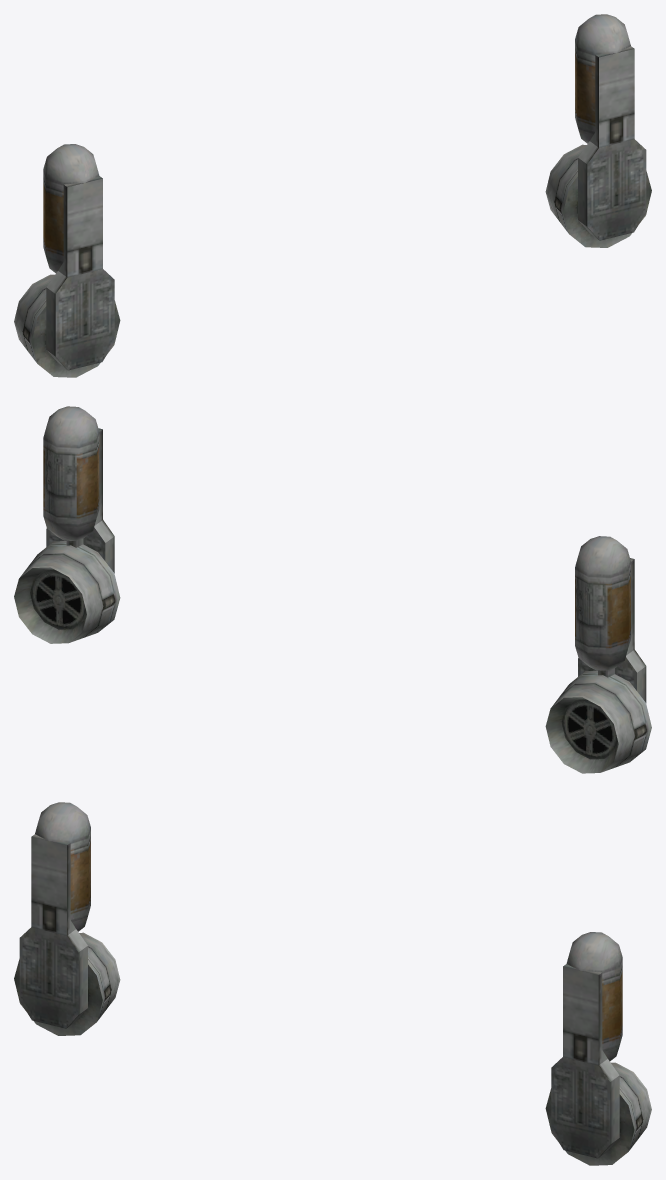
Rendered from kse_firespray_booster_s02_l0.fbx.
3 views of the same model, one above another, from view 1: azimuth 30°, elevation 25°; view 2: azimuth 150°, elevation 25°; view 3: azimuth 330°, elevation 25° (orthographic).
Visible parts, largest first — view 1: mesh_node; view 2: mesh_node; view 3: mesh_node.
Part boxes in pixels (x1=…): mesh_node: x1=14, y1=14, x2=651, y2=377; mesh_node: x1=14, y1=406, x2=651, y2=773; mesh_node: x1=14, y1=802, x2=651, y2=1165.
Bounding box in the file's own units: 10.5 × 3.69 × 1.02.
